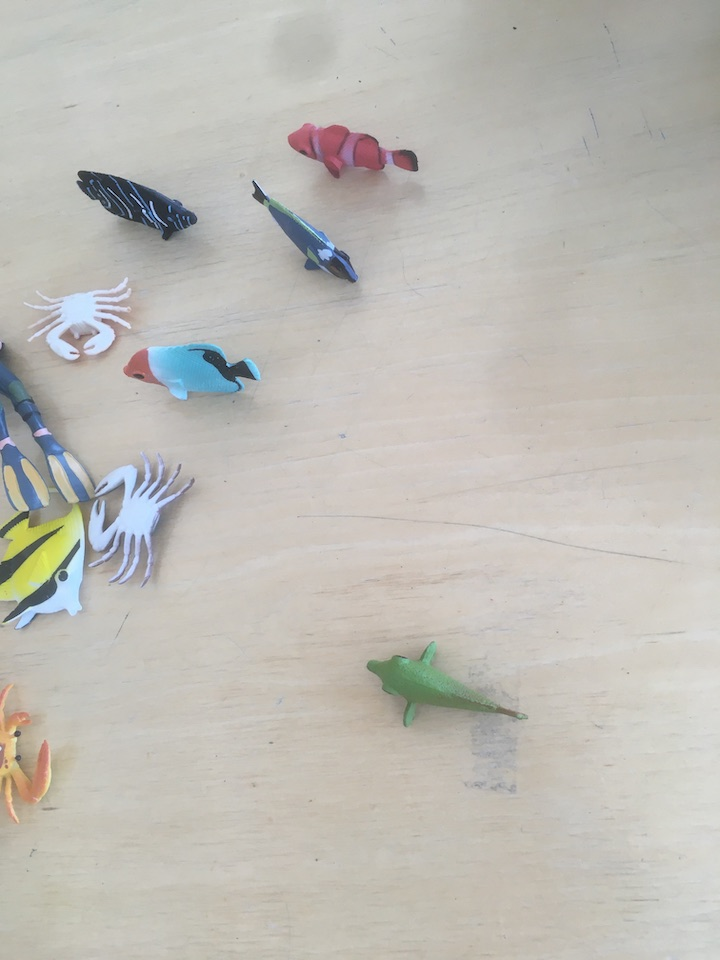crab: (84, 451, 197, 593), (20, 269, 136, 363), (1, 682, 59, 831)
danger: (1, 484, 90, 633)
diver: (1, 326, 104, 512)
fish: (364, 637, 531, 734), (246, 179, 362, 290), (70, 161, 208, 242), (115, 340, 267, 404), (280, 118, 425, 184)
